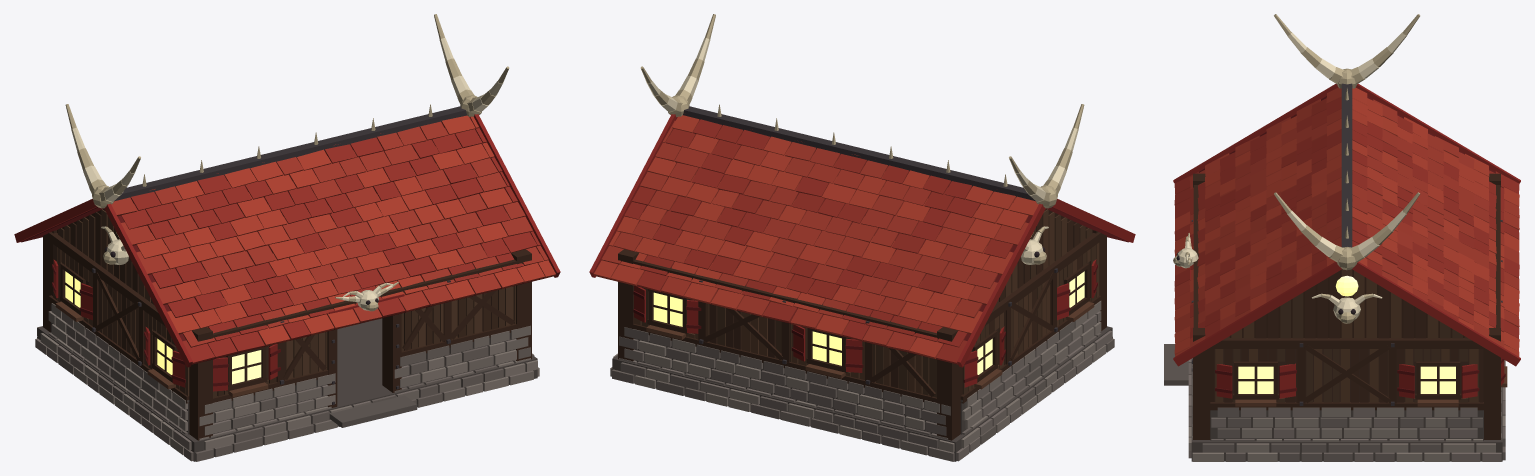
File: house_studio-prPn7xt-.glb
The picture shows the model from 3 angles, left to right: view 1: azimuth 30°, elevation 25°; view 2: azimuth 150°, elevation 25°; view 3: azimuth 270°, elevation 25°; orthographic projection.
Visible parts, largest first — view 1: studio_roof, studio_S_hi, studio_base, studio_S_lo, studio_W_hi, studio_W_lo, studio_N_hi; view 2: studio_roof, studio_N_hi, studio_N_lo, studio_base, studio_W_hi, studio_W_lo; view 3: studio_roof, studio_E_hi, studio_E_lo, studio_base, studio_S_hi, studio_N_hi, studio_S_lo, studio_N_lo.
Boxes of the visible parts, x1,y1,x2,y2 form: studio_roof: (14,14,560,367); studio_S_hi: (189,249,531,405); studio_base: (35,318,539,461); studio_S_lo: (189,324,531,440); studio_W_hi: (48,232,189,400); studio_W_lo: (48,299,189,434); studio_N_hi: (43,230,56,295); studio_roof: (589,14,1135,367); studio_N_hi: (618,249,962,405); studio_N_lo: (618,324,960,440); studio_base: (610,326,1114,461); studio_W_hi: (960,232,1101,400); studio_W_lo: (960,299,1101,434); studio_roof: (1173,14,1520,366); studio_E_hi: (1210,338,1483,406); studio_E_lo: (1210,407,1483,441); studio_base: (1164,344,1505,461); studio_S_hi: (1173,173,1214,405); studio_N_hi: (1483,173,1507,405); studio_S_lo: (1191,358,1210,439); studio_N_lo: (1484,387,1501,439).
Bounding box in the file's own units: 10.88 × 7.41 × 8.71.
